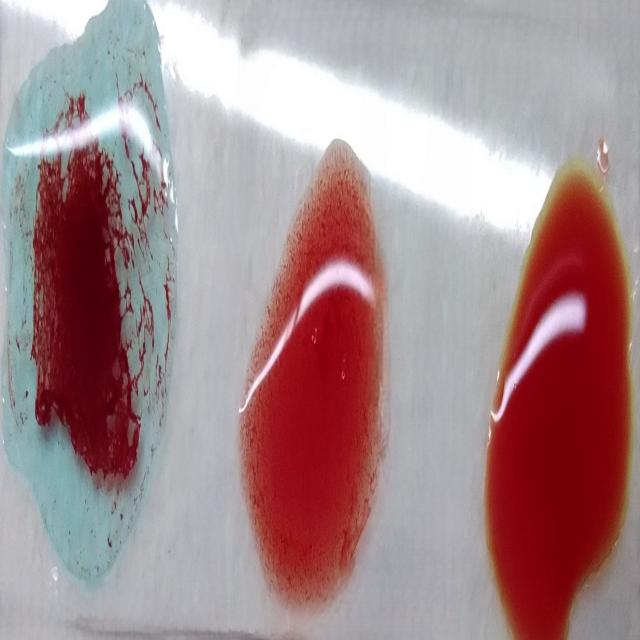A: (7, 21, 178, 582)
D: (240, 135, 390, 619)
